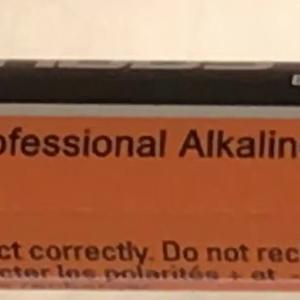ALK: (169, 120, 236, 168)
